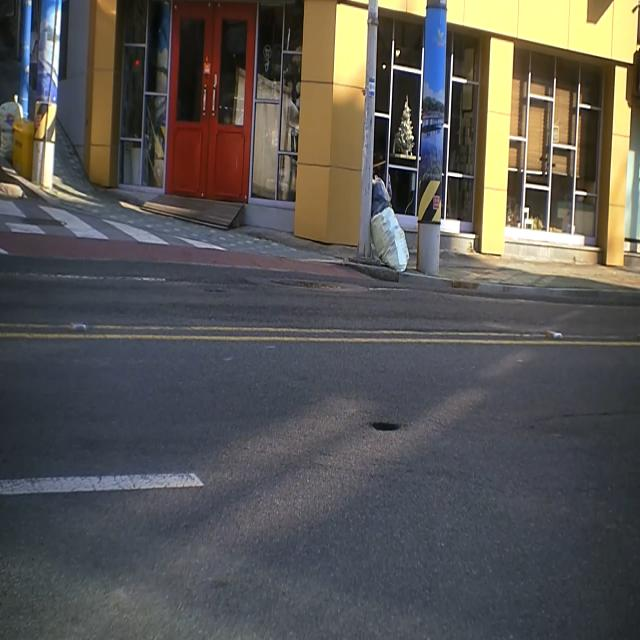Pothole: (362, 406, 408, 446)
